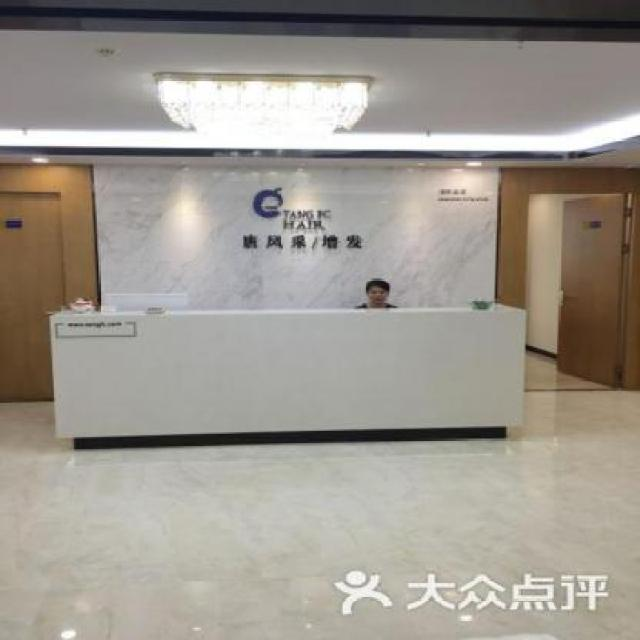frontdesk: (40, 296, 545, 452)
